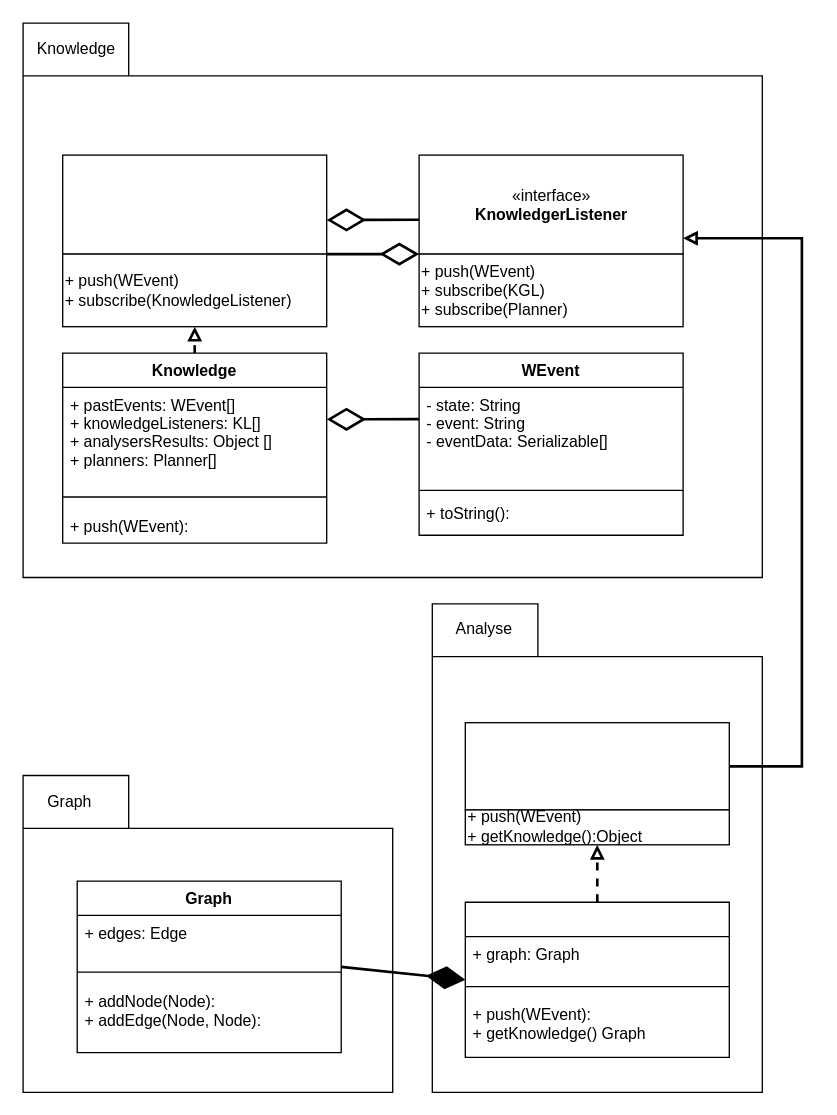
The diagram is 837 pixels wide and 1115 high, and some of its shapes have lost their labels. Here are the shapes that lost their labels. From the top down, the box of each, then its label:
(61, 154, 327, 254): «interface» KnowledgeGeneratorListener
(464, 721, 729, 810): «interface» Analyser
(464, 901, 729, 1057): GraphAnalyser
